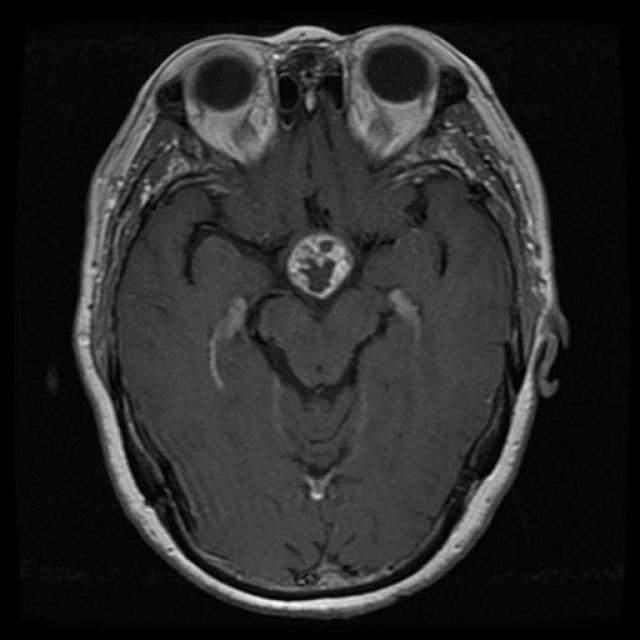Brain-Tumor: (277, 221, 369, 308)
eye: (174, 36, 289, 171), (336, 30, 446, 169)
